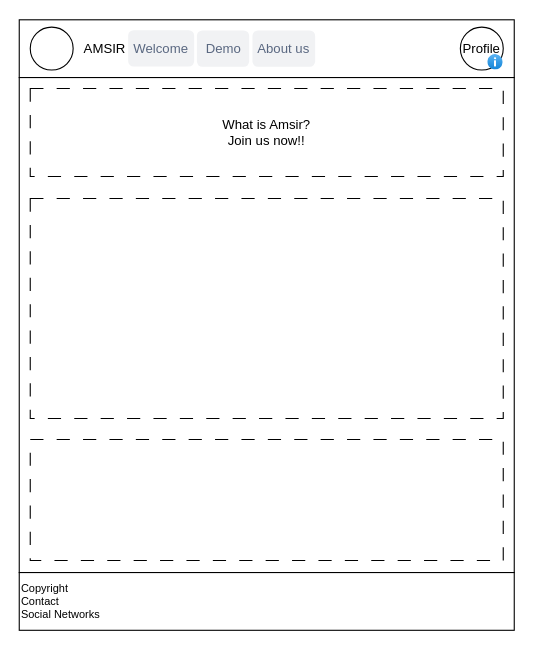
The diagram is 534 pixels wide and 649 high, and some of its shapes have lost their labels. The centre of each missing label's shape, as x and y in pixels:
"Alianzas" belongs at (x=266, y=499).
"Logo" belongs at (x=51, y=48).
"Main courses" belongs at (x=266, y=308).
